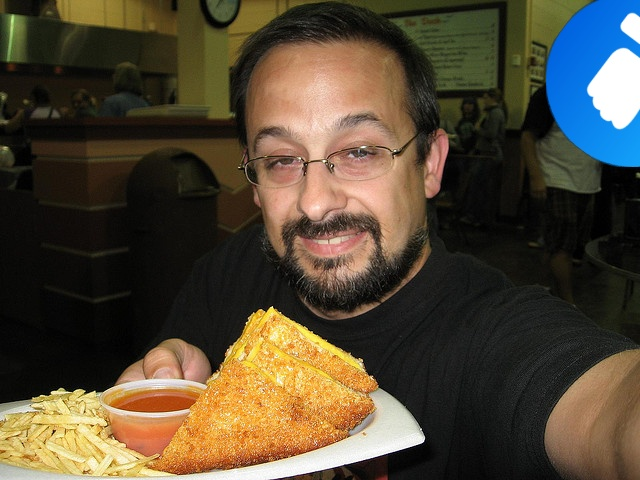like: (546, 0, 640, 167)
